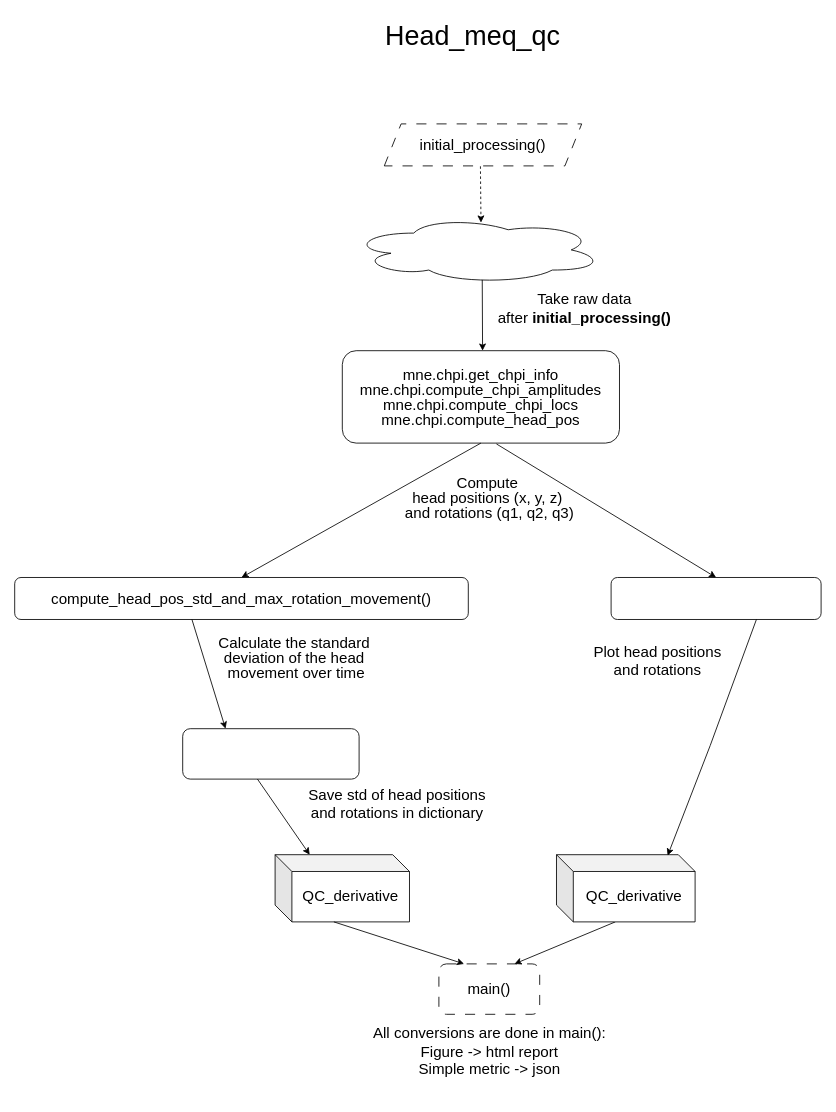
Some shapes in this 836 by 1112 pixel diagram are drawn without their labels. The centre of each missing label's shape, as x and y in pixels:
make_head_pos_plot(): (x=715, y=598)
make_simple_metric(): (x=270, y=753)
Raw data: (x=476, y=249)
